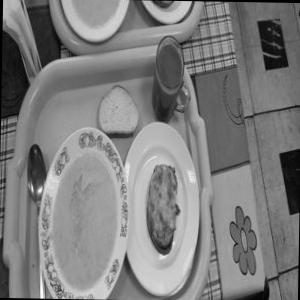bread: (94, 80, 143, 139)
cheese_sandwich: (138, 156, 183, 256)
coffee: (142, 25, 196, 125)
porridge: (48, 142, 122, 292)
